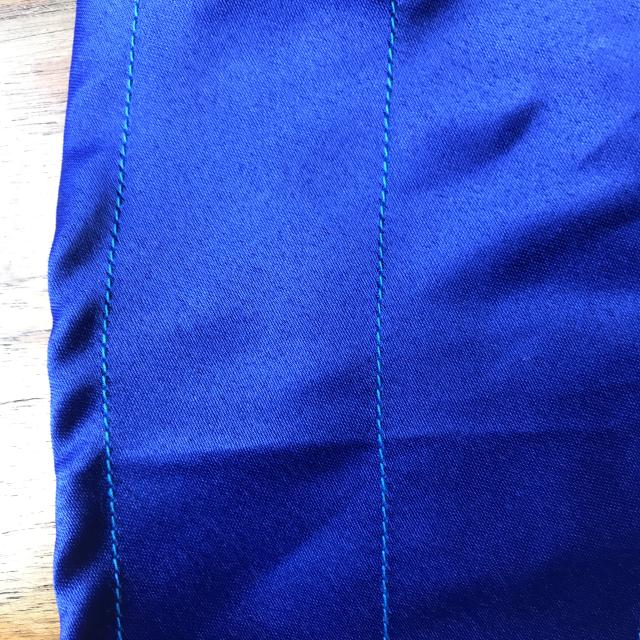good: (368, 141, 406, 255)
